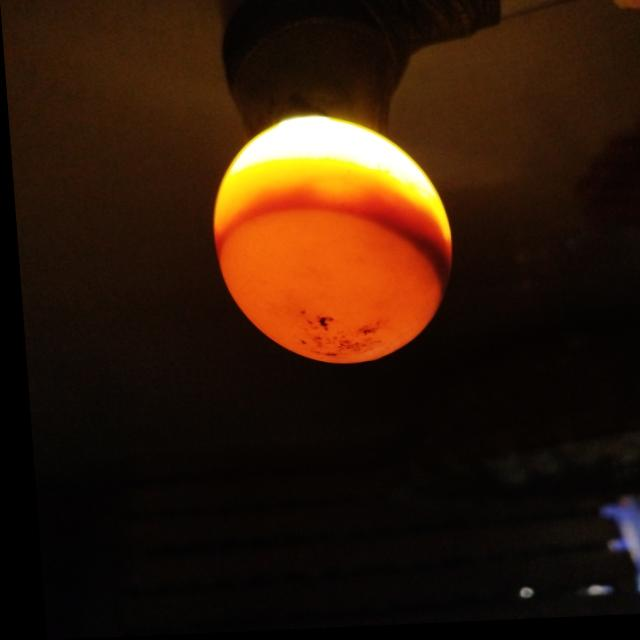Area Infectada: (379, 224, 447, 304)
